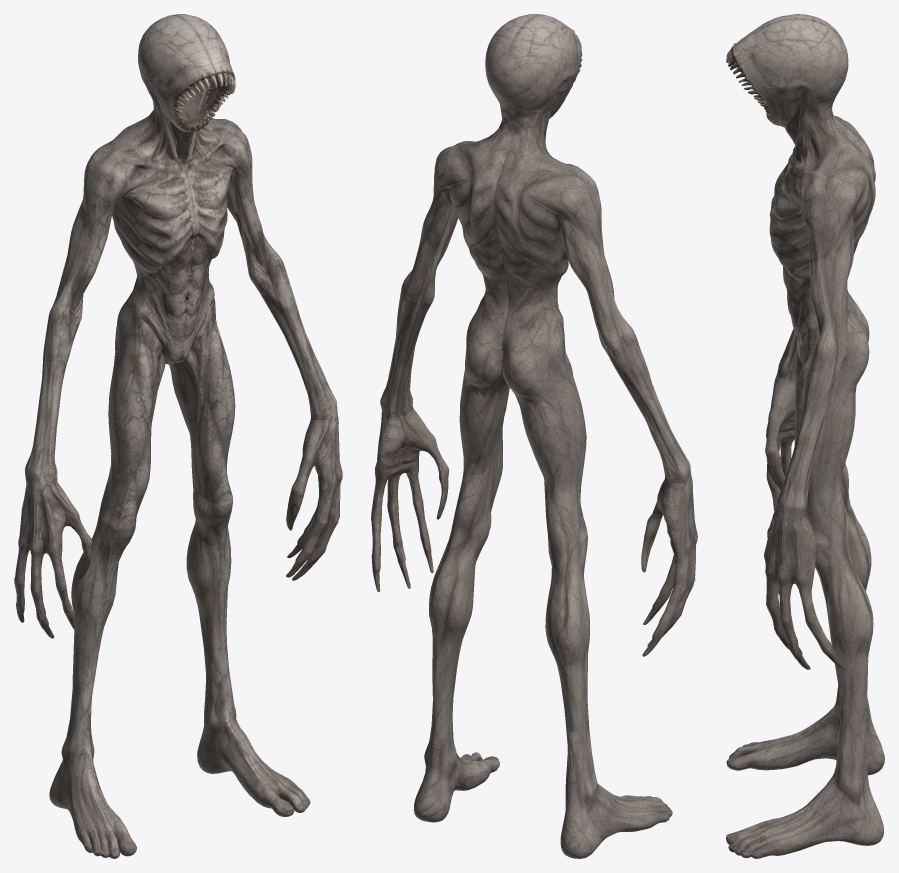
The model's file is hollow_mixamo.fbx.
The picture shows the model from 3 angles, left to right: view 1: azimuth 30°, elevation 25°; view 2: azimuth 150°, elevation 25°; view 3: azimuth 270°, elevation 25°; orthographic projection.
Parts seen in each view (by area): view 1: hollow; view 2: hollow; view 3: hollow.
Part boxes in pixels (x1,y1,x2,y2): hollow: [14, 14, 342, 858]; hollow: [371, 14, 697, 858]; hollow: [726, 14, 884, 858].
Size of the model in its own units: 0.8757 by 2.1 by 0.3814.
Materials: 1 (1 with a texture image).
